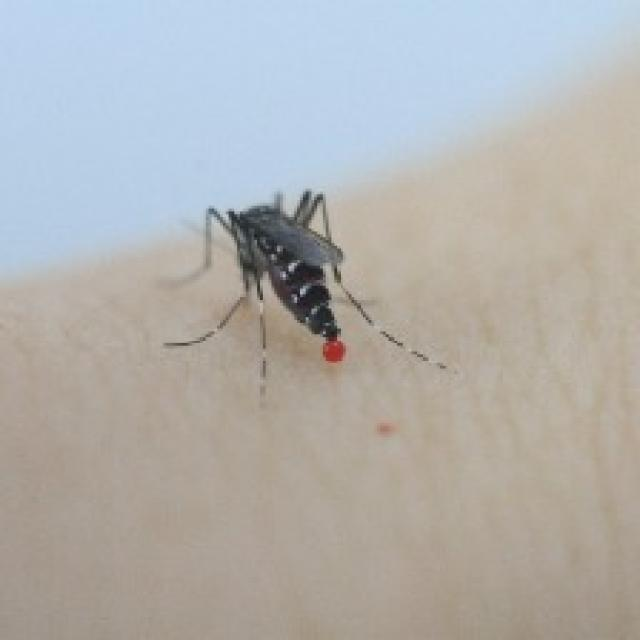aedes: (157, 186, 449, 403)
